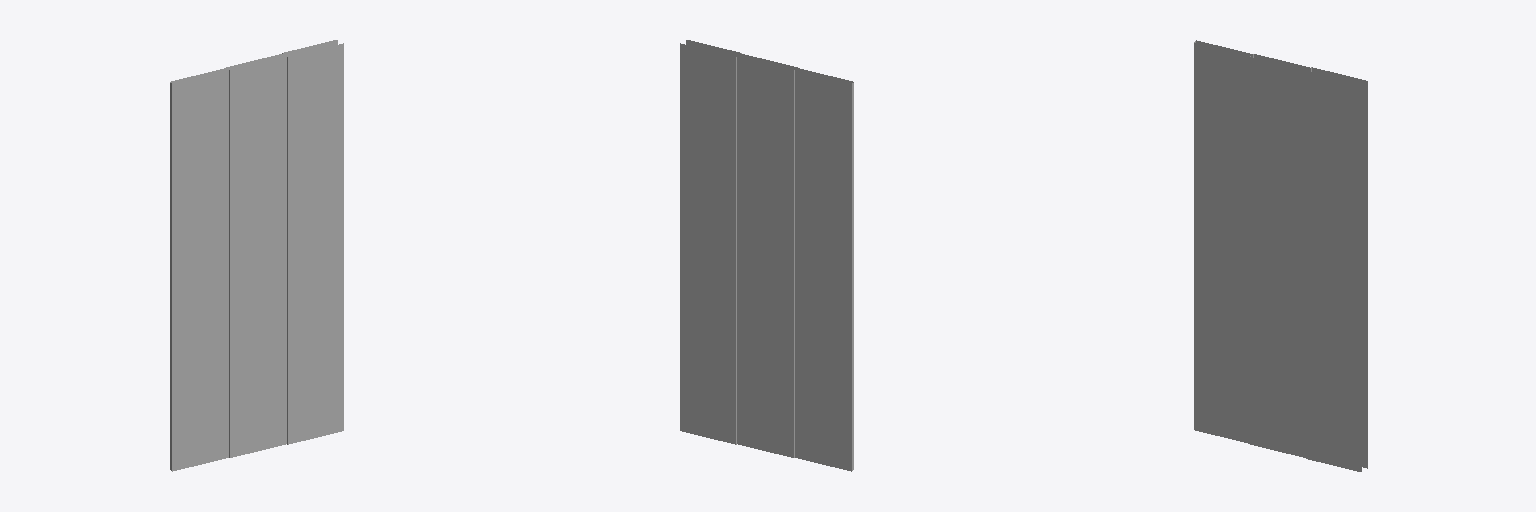
The model's file is Elevator Door Right.obj.
3 renders of one model, left to right at view 1: azimuth 30°, elevation 25°; view 2: azimuth 150°, elevation 25°; view 3: azimuth 330°, elevation 25°, orthographic.
Visible parts, largest first — view 1: Elevator_Door; view 2: Elevator_Door; view 3: Elevator_Door.
Boxes of the visible parts, box(x1,y1,x2,y2) form: Elevator_Door: box(170, 40, 343, 471); Elevator_Door: box(680, 40, 853, 471); Elevator_Door: box(1194, 40, 1367, 471).
Bounding box in the file's own units: 0.9093 × 1.98 × 0.0508.